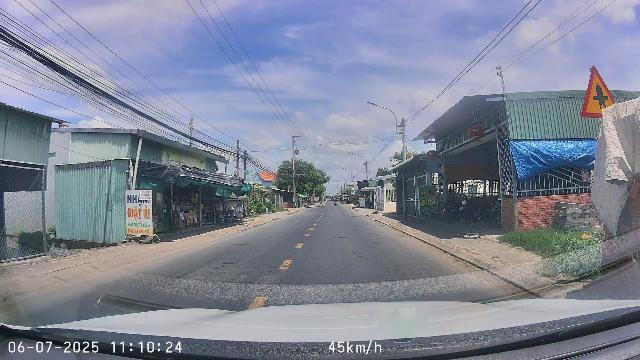207-giao-nhau-voi-duong-khong-uu-tien: (581, 66, 615, 114)
